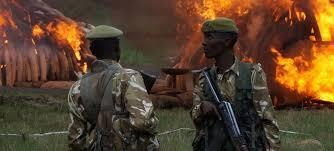fire: (13, 8, 93, 68), (272, 37, 334, 105)
